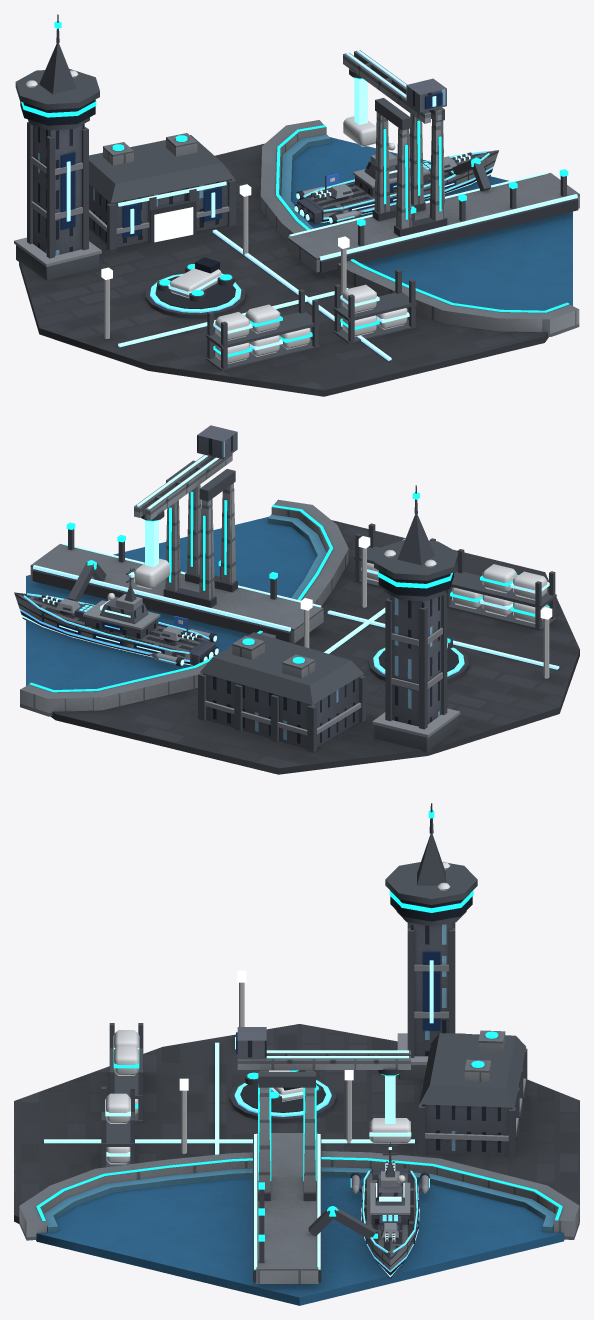
Rendered from port_scifi_blue.glb.
3 renders of one model, top to bottom at view 1: azimuth 30°, elevation 25°; view 2: azimuth 150°, elevation 25°; view 3: azimuth 270°, elevation 25°, orthographic. The views are drawn at different scales.
Parts seen in each view (by area): view 1: port_scifi_blue; view 2: port_scifi_blue; view 3: port_scifi_blue.
Part boxes in pixels (x1,y1,x2,y2): port_scifi_blue: (14,14,579,396); port_scifi_blue: (14,425,579,774); port_scifi_blue: (14,803,579,1305).
Size of the model in its own units: 1.58 by 0.72 by 1.37.
9 materials, 1 textured.
